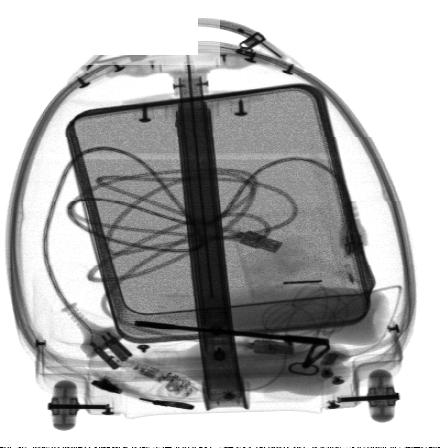Wrench: (134, 320, 329, 345)
